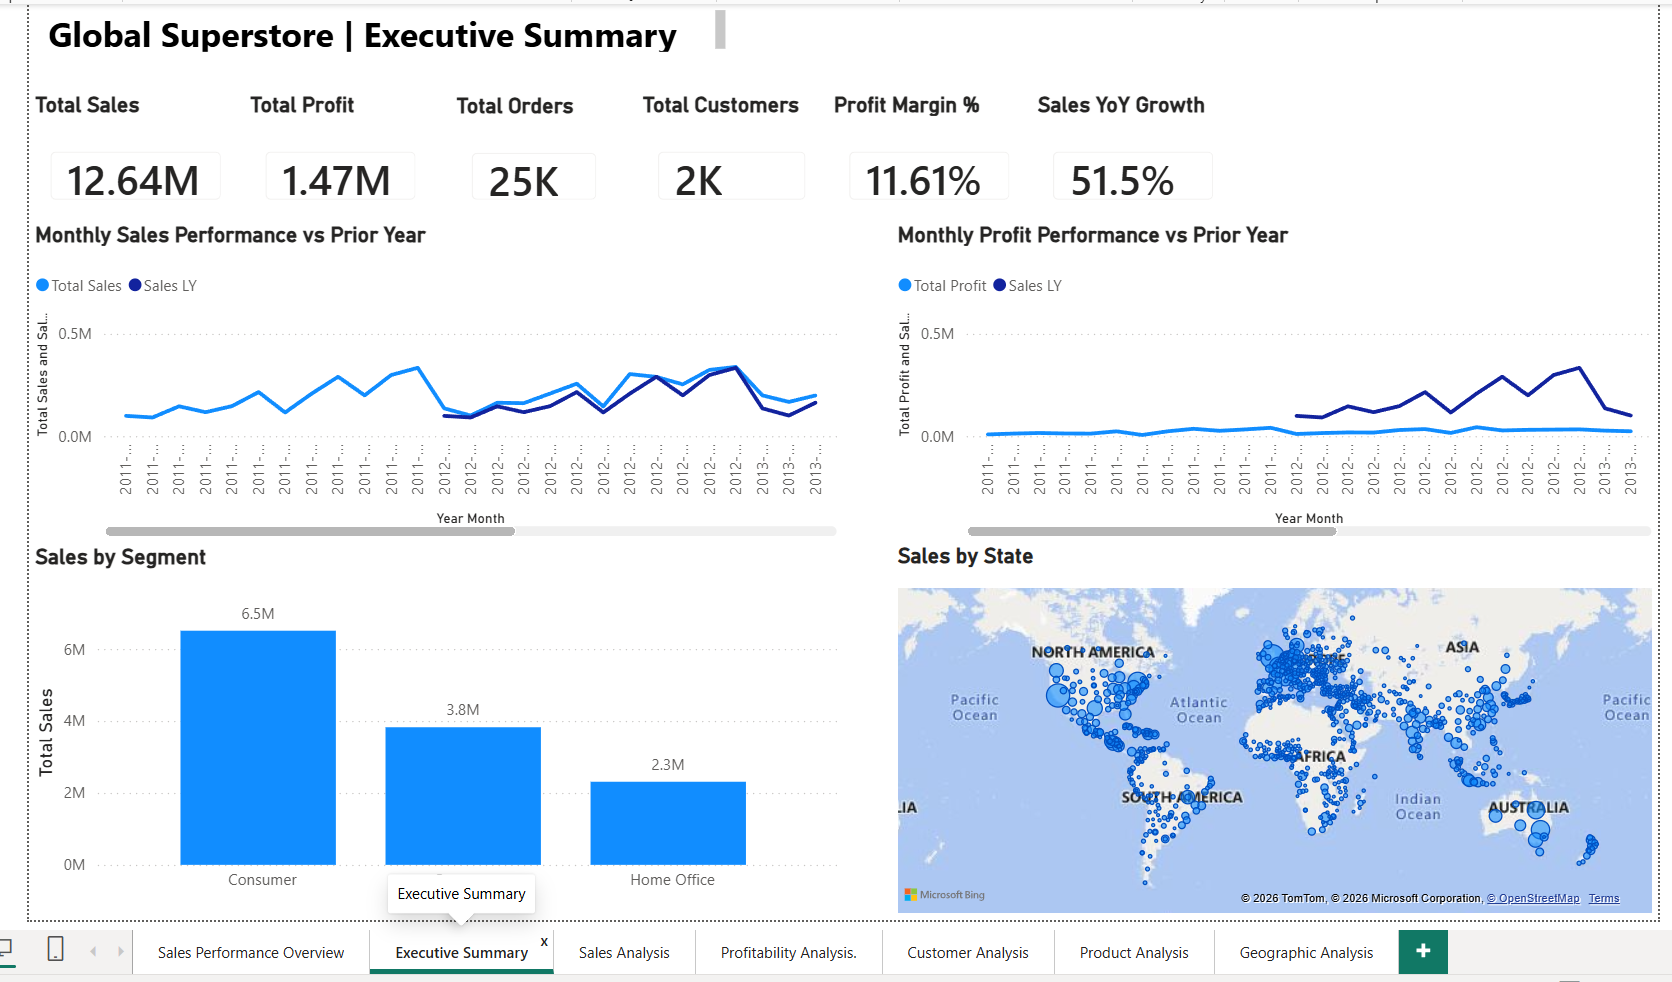

The dashboard page shown, as its layout file describes it:
{"tool":"powerbi","page":{"name":"Executive Summary","canvas":[1280,720],"ordinal":1},"visuals":[{"type":"textbox","box":[10,0,542.5,42.5],"z":0},{"type":"cardVisual","title":"Total Sales","fields":{"Data":["Global-Superstore.Total Sales"]},"box":[0,68.8,168.8,102.5],"z":1000},{"type":"cardVisual","title":"Total Profit","fields":{"Data":["Global-Superstore.Total Profit"]},"box":[168.8,68.8,152.5,102.5],"z":2000},{"type":"cardVisual","title":"Total Customers","fields":{"Data":["Global-Superstore.Total Customers"]},"box":[477.5,68.8,150,102.5],"z":3000},{"type":"cardVisual","title":"Total Orders","fields":{"Data":["Global-Superstore.Total Orders"]},"box":[331.2,70,132.5,101.2],"z":4000},{"type":"cardVisual","title":"Profit Margin %","fields":{"Data":["Global-Superstore.Profit Margin %"]},"box":[627.5,68.8,160,102.5],"z":5000},{"type":"lineChart","title":"Monthly Sales Performance vs Prior Year","fields":{"Category":["Calendar.Year Month"],"Y":["Global-Superstore.Total Sales","Calendar.Sales LY"]},"box":[0,171.2,640,252.5],"z":6000},{"type":"lineChart","title":"Monthly Profit Performance vs Prior Year","fields":{"Category":["Calendar.Year Month"],"Y":["Global-Superstore.Total Profit","Calendar.Sales LY"]},"box":[677.5,171.2,602.5,252.5],"z":7000},{"type":"map","title":"Sales by State","fields":{"Category":["Global-Superstore.State"],"Size":["Global-Superstore.Total Sales"]},"box":[677.5,423.8,602.5,296.2],"z":8000},{"type":"cardVisual","title":"Sales YoY Growth","fields":{"Data":["Calendar.Sales YoY %"]},"box":[787.8,68.9,160,102.2],"z":9000},{"type":"clusteredColumnChart","title":"Sales by Segment","fields":{"Category":["Global-Superstore.Segment"],"Y":["Global-Superstore.Total Sales"]},"box":[0,424,640,296],"z":10000}]}

Visuals, with their boxes on the page's 1280x720 design canvas (x1, y1, x2, y2). These are canvas units, not pixel positions in the 1672x982 screenshot, which may show the page scaled, cropped or inside an application window:
textbox: <bbox>10, 0, 552, 42</bbox>
"Total Sales" cardVisual: <bbox>0, 69, 169, 171</bbox>
"Total Profit" cardVisual: <bbox>169, 69, 321, 171</bbox>
"Total Customers" cardVisual: <bbox>478, 69, 628, 171</bbox>
"Total Orders" cardVisual: <bbox>331, 70, 464, 171</bbox>
"Profit Margin %" cardVisual: <bbox>628, 69, 788, 171</bbox>
"Monthly Sales Performance vs Prior Year" lineChart: <bbox>0, 171, 640, 424</bbox>
"Monthly Profit Performance vs Prior Year" lineChart: <bbox>678, 171, 1280, 424</bbox>
"Sales by State" map: <bbox>678, 424, 1280, 720</bbox>
"Sales YoY Growth" cardVisual: <bbox>788, 69, 948, 171</bbox>
"Sales by Segment" clusteredColumnChart: <bbox>0, 424, 640, 720</bbox>
